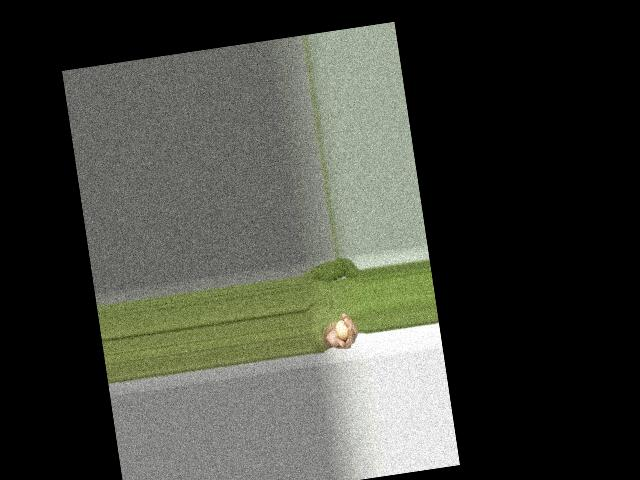egg: (334, 318, 349, 340)
